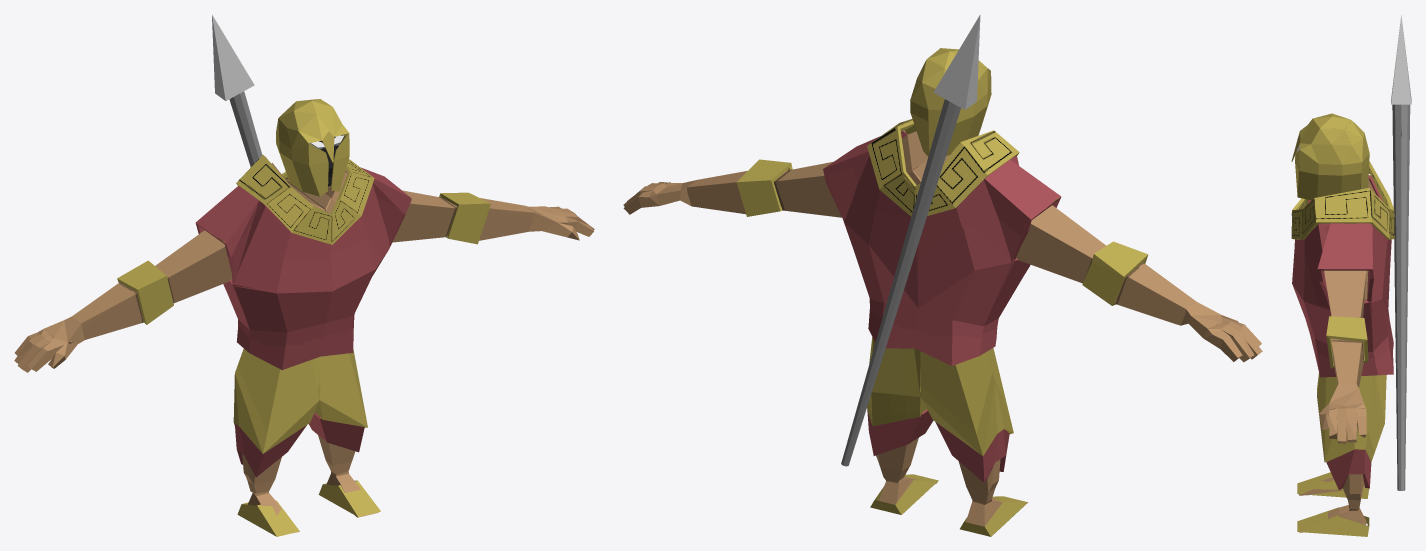
The model's file is Nuevo soldado.fbx.
3 views of the same model, side by side, from view 1: azimuth 30°, elevation 25°; view 2: azimuth 150°, elevation 25°; view 3: azimuth 270°, elevation 25° (orthographic). The views are drawn at different scales.
Parts seen in each view (by area): view 1: Cylinder.001; view 2: Cylinder.001; view 3: Cylinder.001.
Part boxes in pixels (x1,y1,x2,y2): Cylinder.001: (14,15,594,536); Cylinder.001: (623,15,1262,536); Cylinder.001: (1291,15,1411,536).
Bounding box in the file's own units: 1.53 × 6.57 × 8.05.
